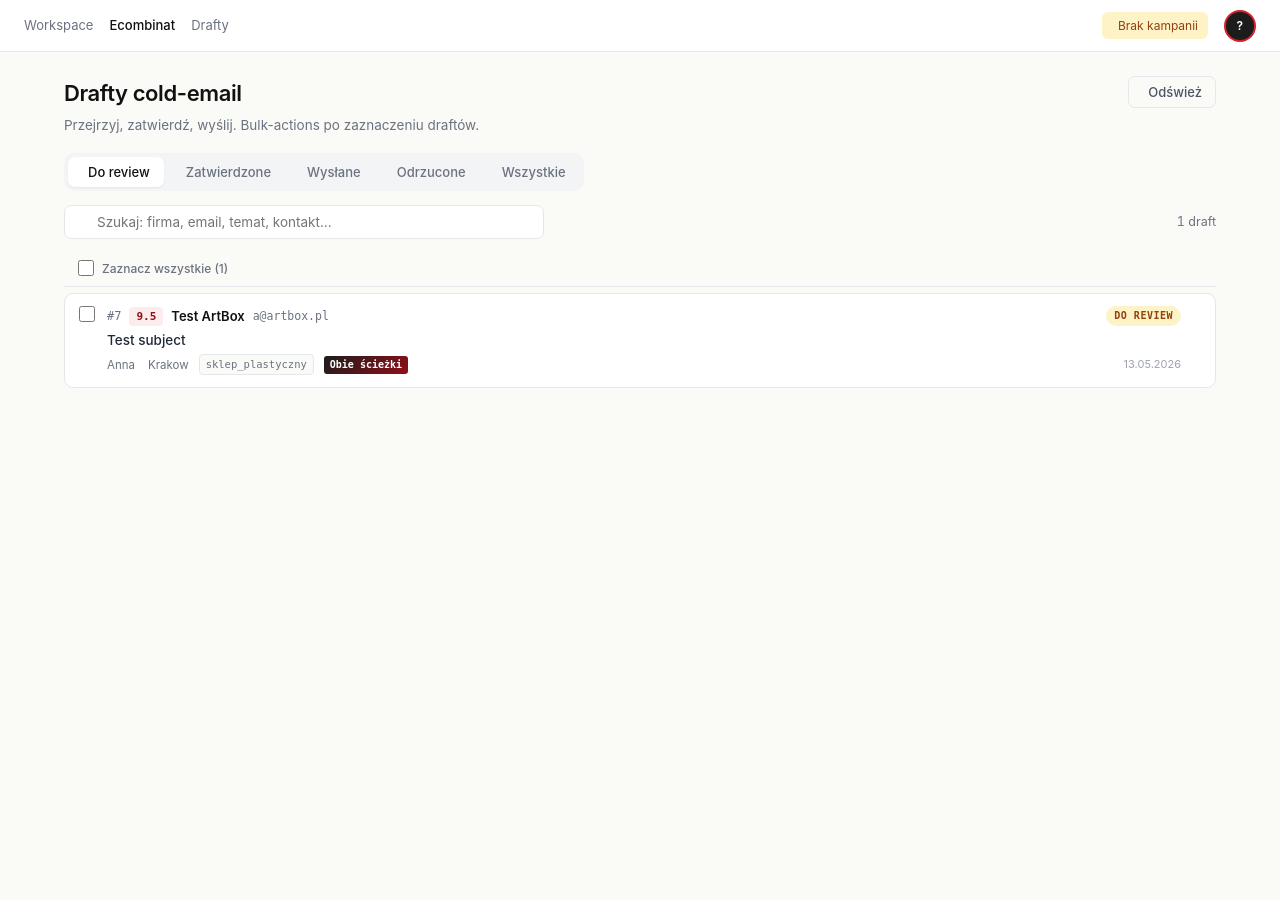
Test: /drafty smoke › renderuje compact row z subject + company + email
This screenshot has width=1280, height=900.
Expected: the text "Test ArtBox" is shown, [171,306,245,327]
Expected: the text "a@artbox.pl" is shown, [253,307,329,326]
Note: Klik na compact row rozwija pelen mail
Step 1. Click the text "Test subject" → coordinates (146, 340), box [107,332,186,348]
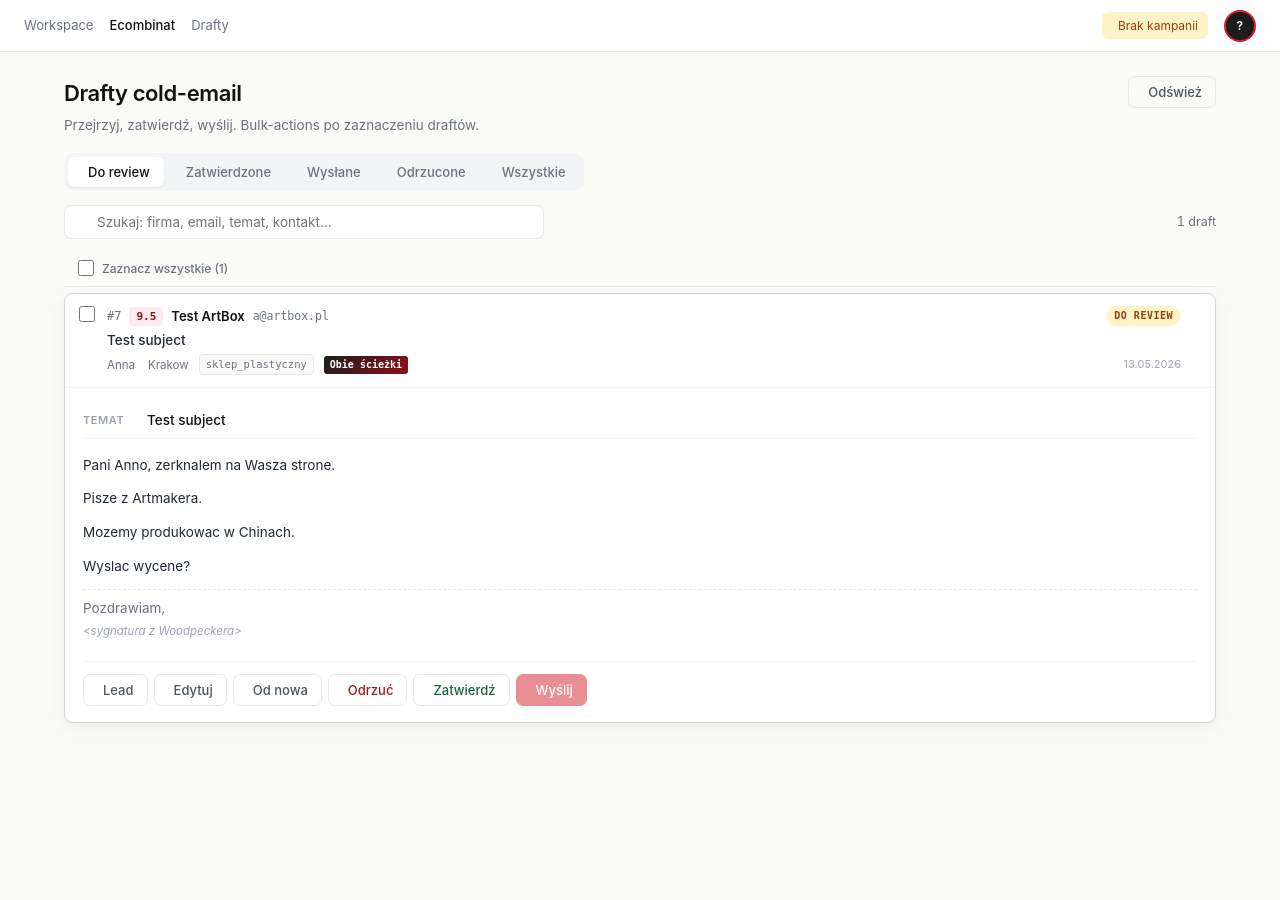
Result: the text "Pani Anno, zerknalem na Wasza strone." is shown at [83,457,335,473]
